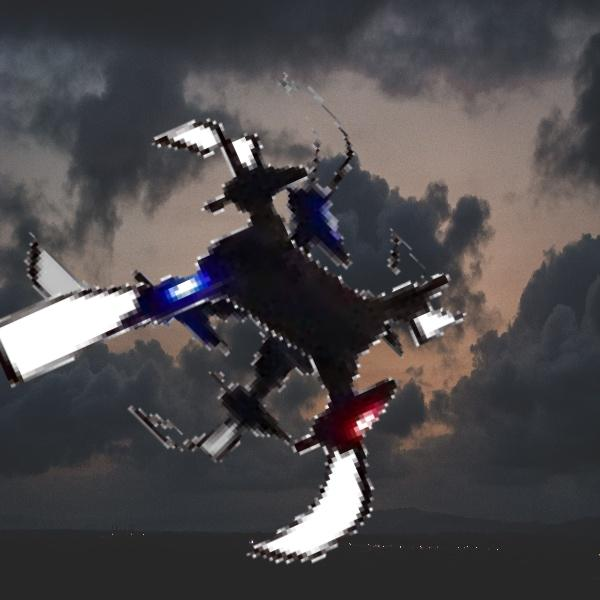drone: (14, 107, 485, 578), (49, 75, 445, 471)
